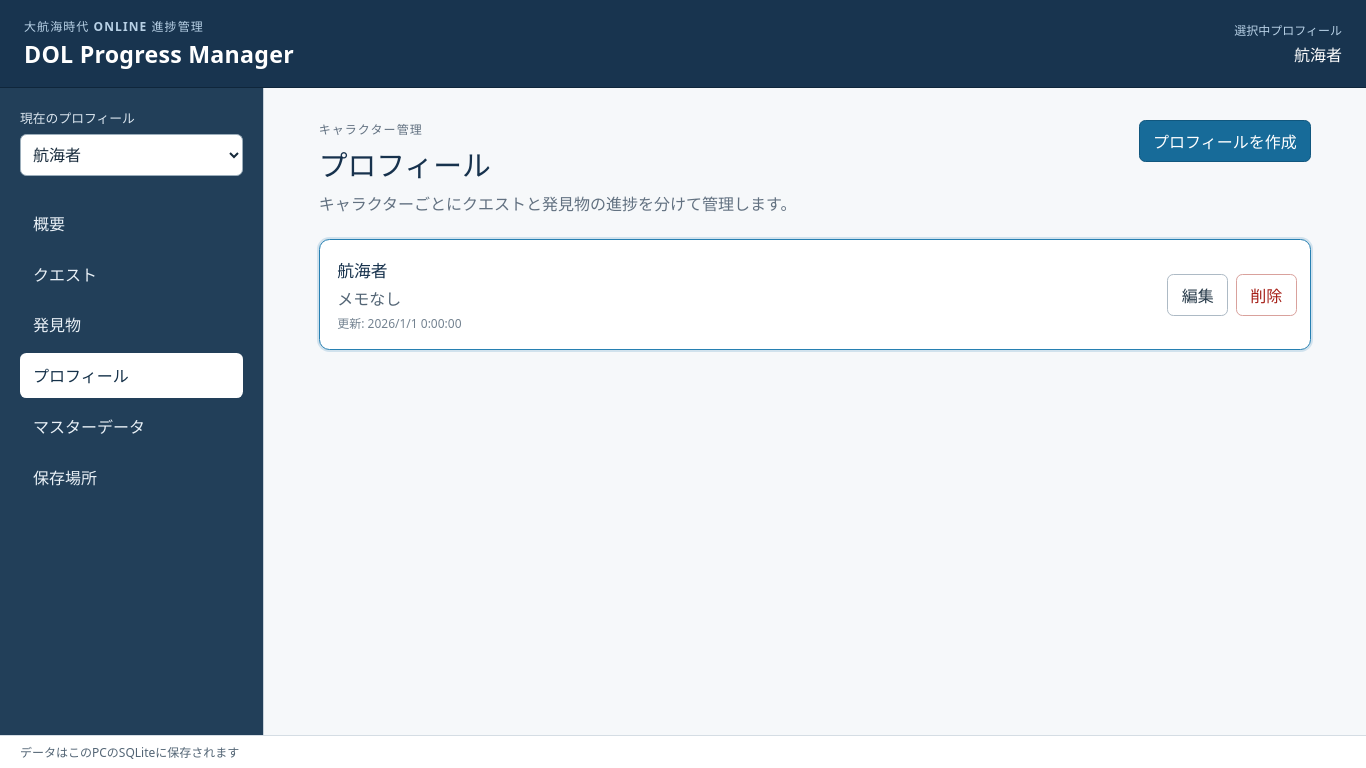
Discovery UI › consumes drill-down once, allows manual category changes, and does not replay on ordinary navigation
Expected: the heading "プロフィール" is shown, x1=319 y1=145 x2=491 y2=184
Click the button "概要".
click(132, 223)  # box x1=20 y1=200 x2=243 y2=245
(page scrolled)
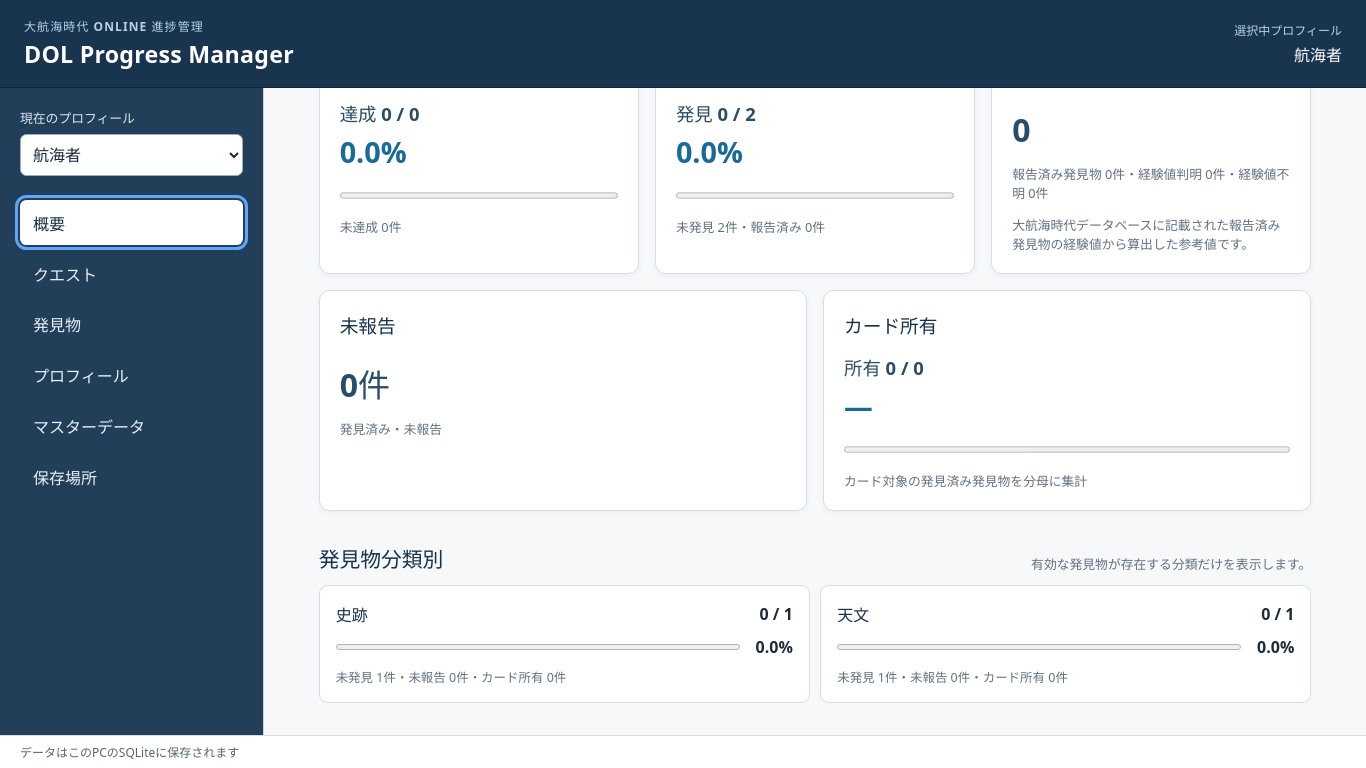
Now the list is shown, box x1=319 y1=585 x2=1311 y2=702
Click the button named "史跡の発見物一覧を開く".
click(564, 644)  # box x1=320 y1=586 x2=809 y2=702
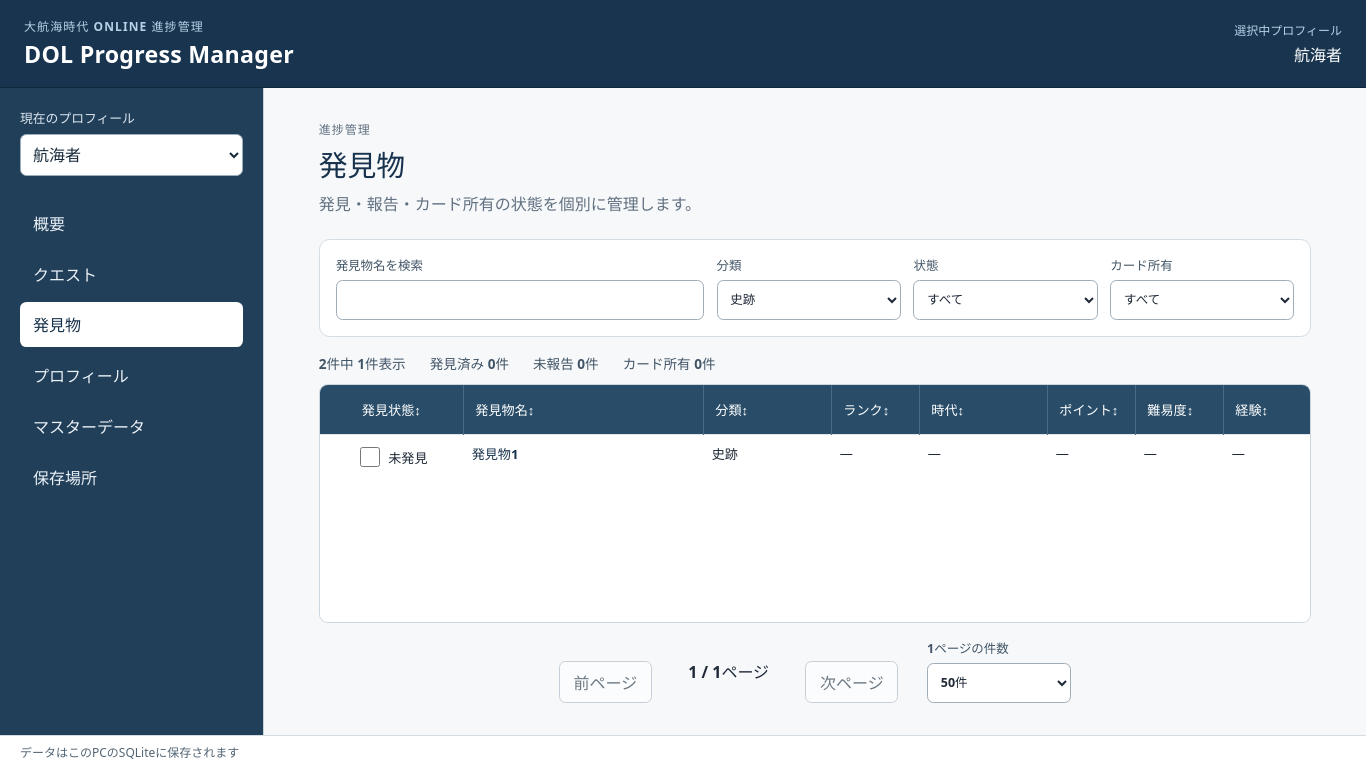
Now the table is shown, box x1=320 y1=385 x2=1311 y2=480
Select "天文" in the dropdown labelled "分類" at (809, 300), box x1=717 y1=280 x2=901 y2=320
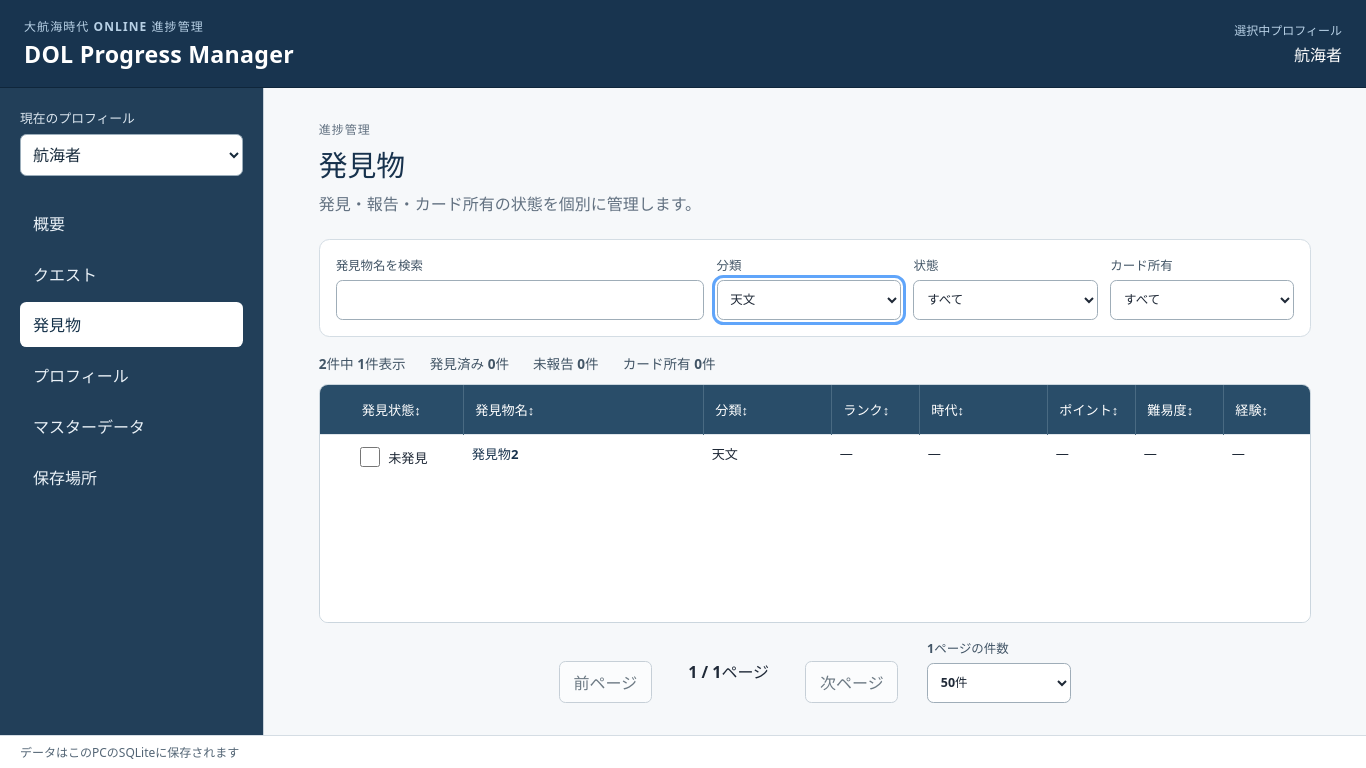
Now the row "未発見 発見物2 天文 — — — — — — — —" is shown, box x1=320 y1=435 x2=1311 y2=480
Click the button "クエスト".
click(132, 274)  # box x1=20 y1=251 x2=243 y2=296
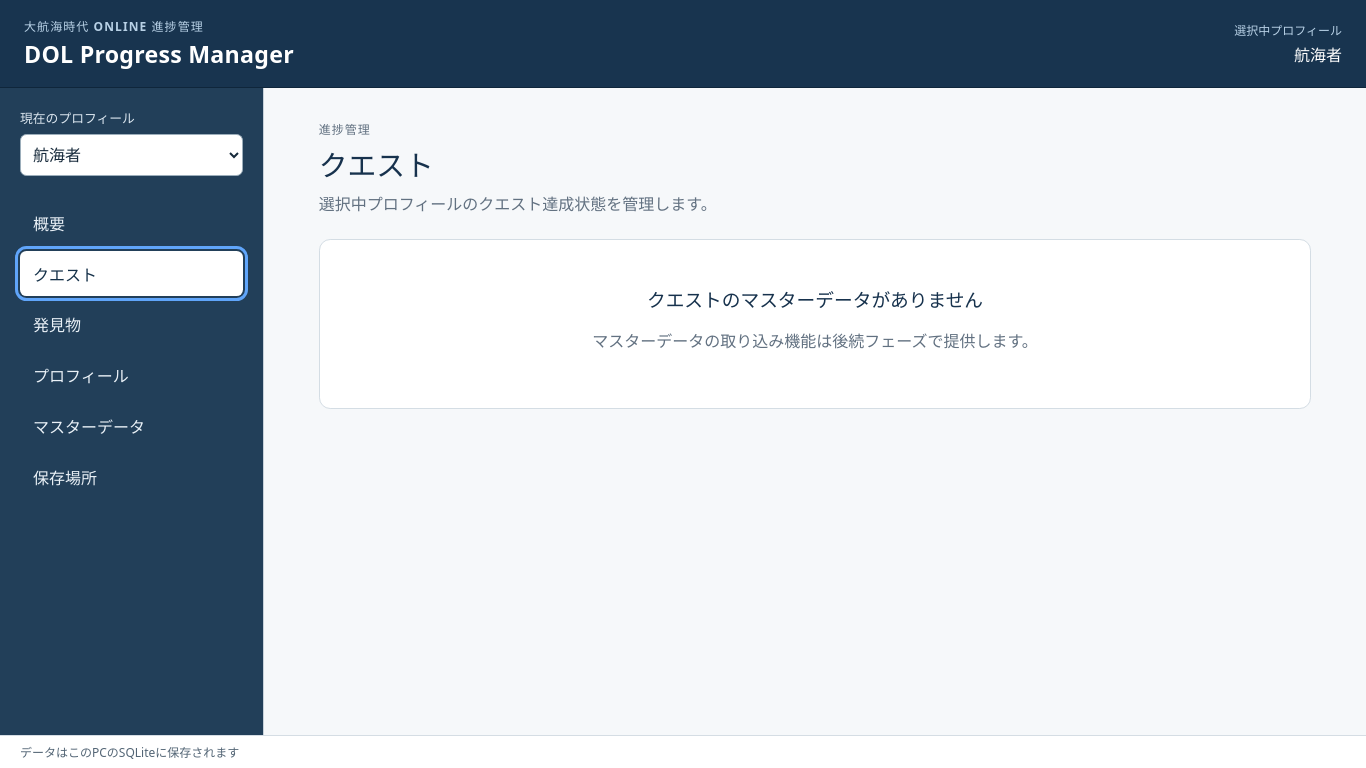
Click the button "発見物".
click(132, 324)  # box x1=20 y1=302 x2=243 y2=347
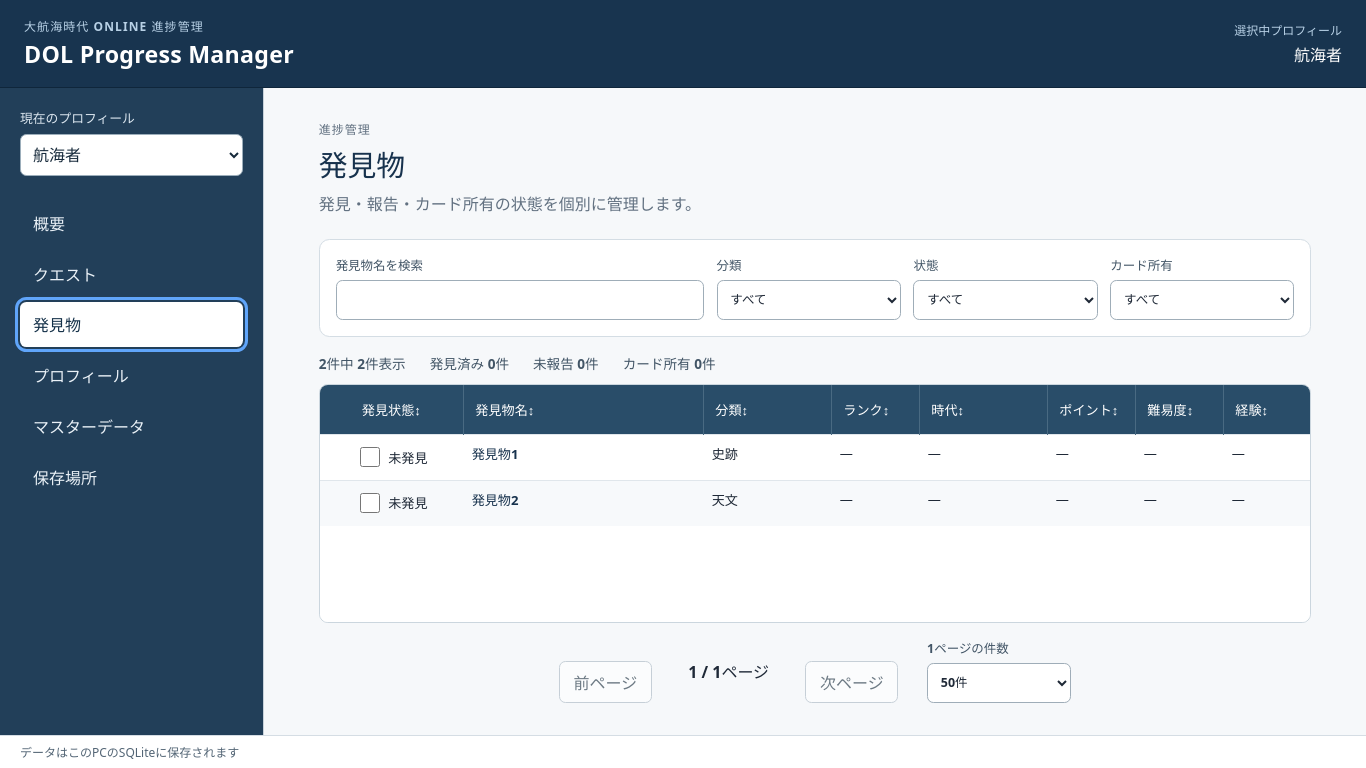
Now the table is shown, box x1=320 y1=385 x2=1311 y2=526
Now the dropdown labelled "分類" shows "すべて", box x1=717 y1=280 x2=901 y2=320
